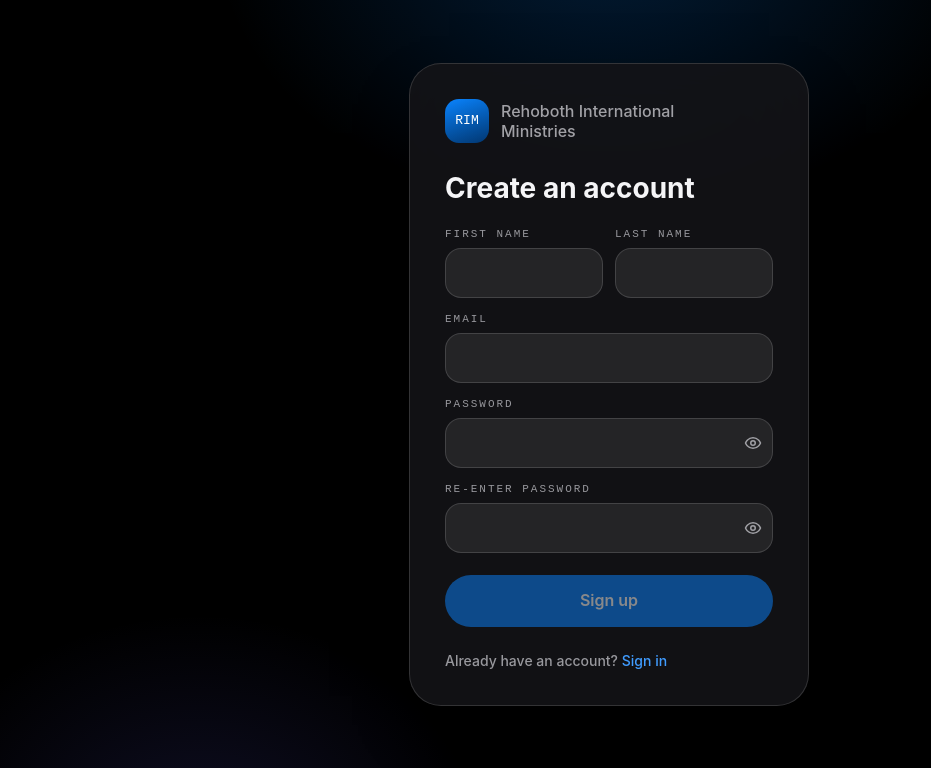
Scenario: signing up › shows no such dialog when sign-up failed
The image size is (931, 768).
Type "Ada" into the field labelled "First name".
click(524, 272); type("Ada")  # box [445,248,603,298]
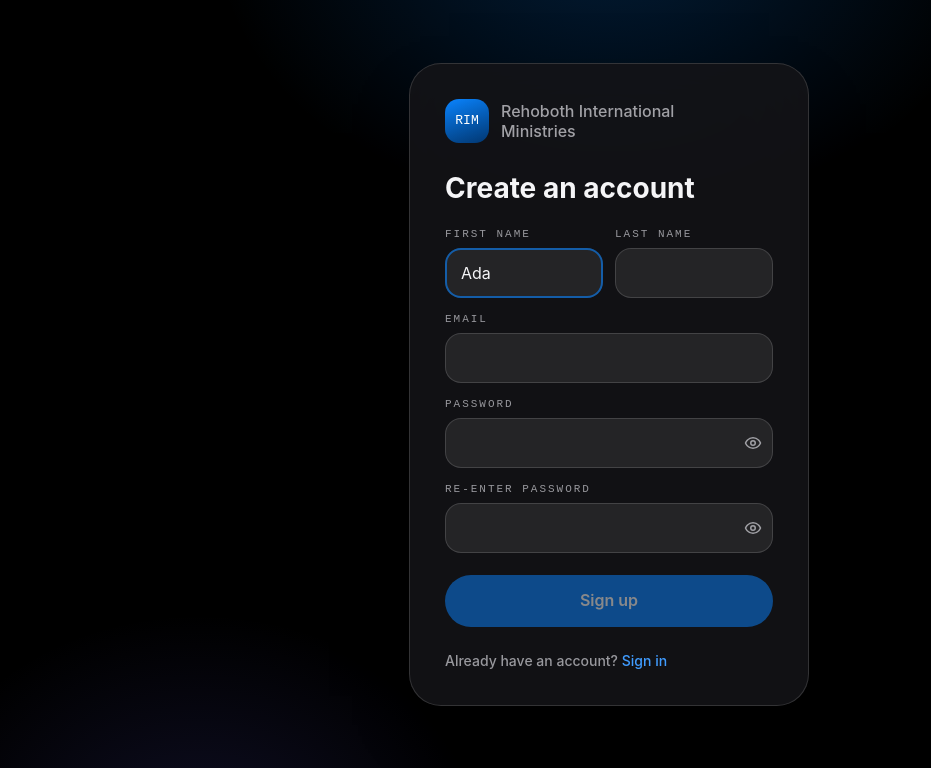
Type "Grace" into the field labelled "Last name".
click(694, 272); type("Grace")  # box [615,248,773,298]
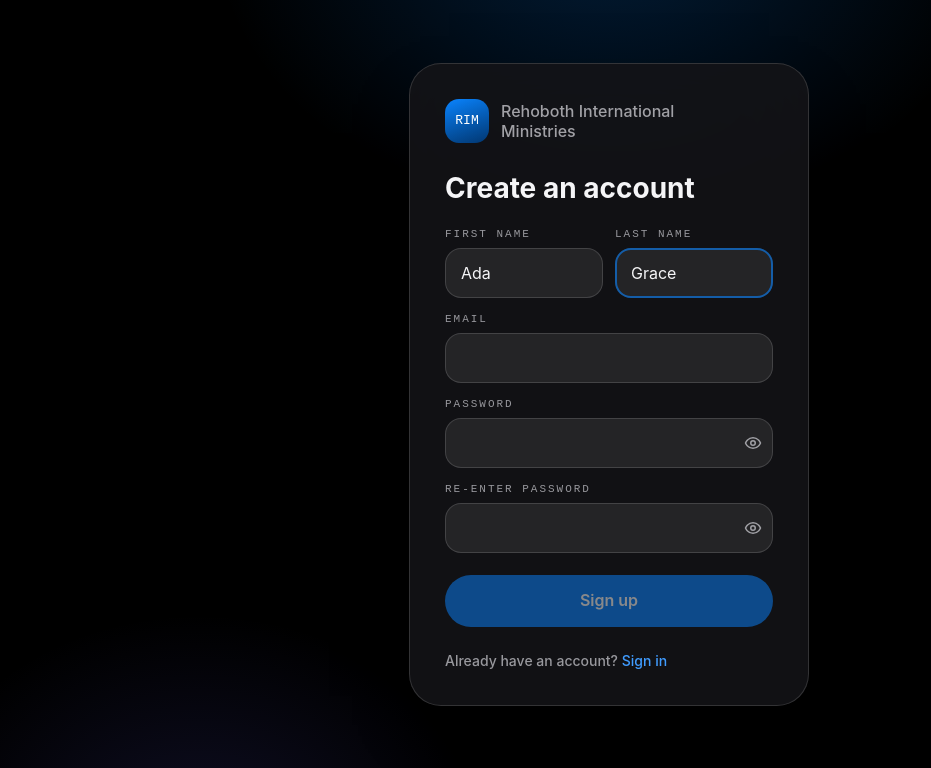
Type "  ada@gmail.com " into the field labelled "Email".
click(609, 358); type("  ada@gmail.com ")  # box [445,332,773,382]
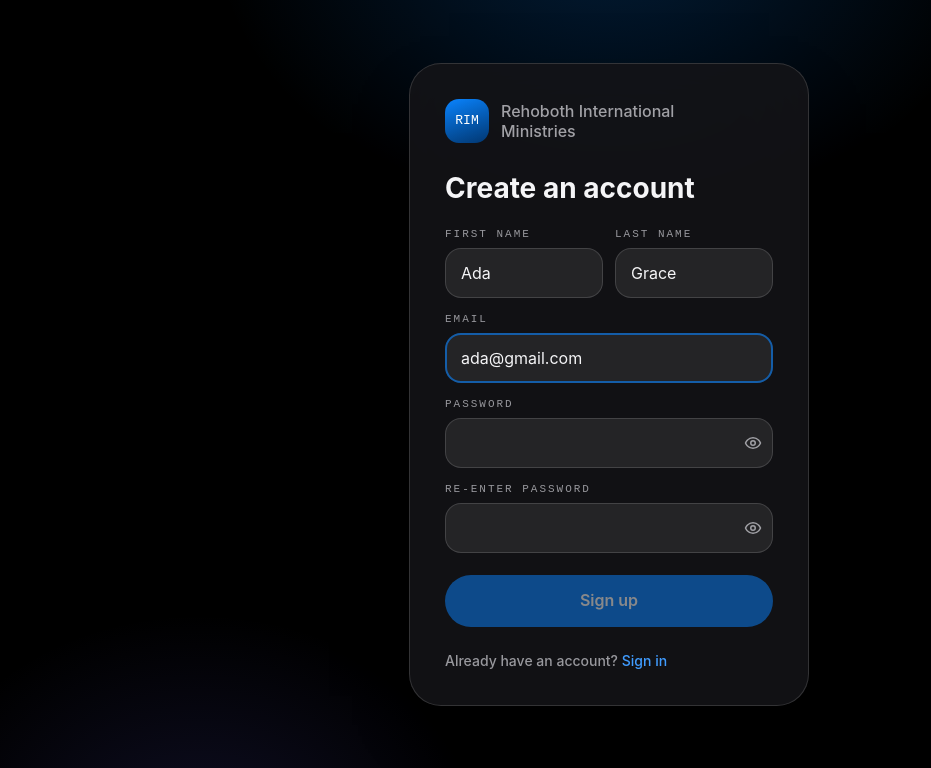
Type "Sunday-Rota-9" into the password field labelled "Password".
click(609, 442); type("Sunday-Rota-9")  # box [445,418,773,468]
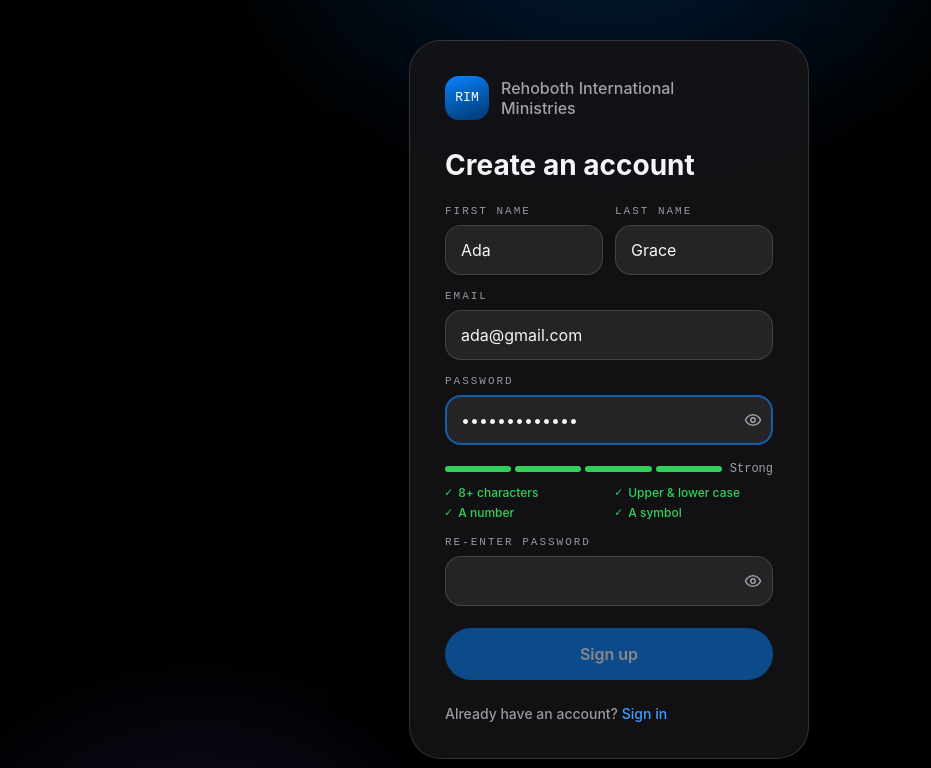
Type "Sunday-Rota-9" into the password field labelled "Re-enter password".
click(609, 581); type("Sunday-Rota-9")  # box [445,556,773,606]
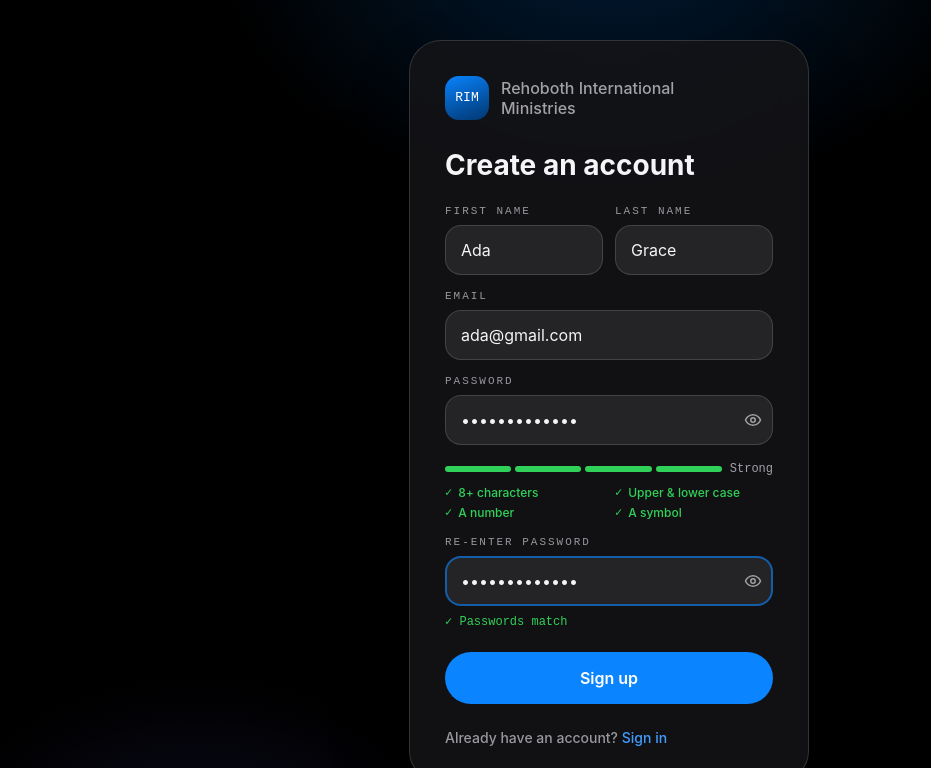
Click the button "Sign up".
click(609, 678)  # box [445,652,773,704]
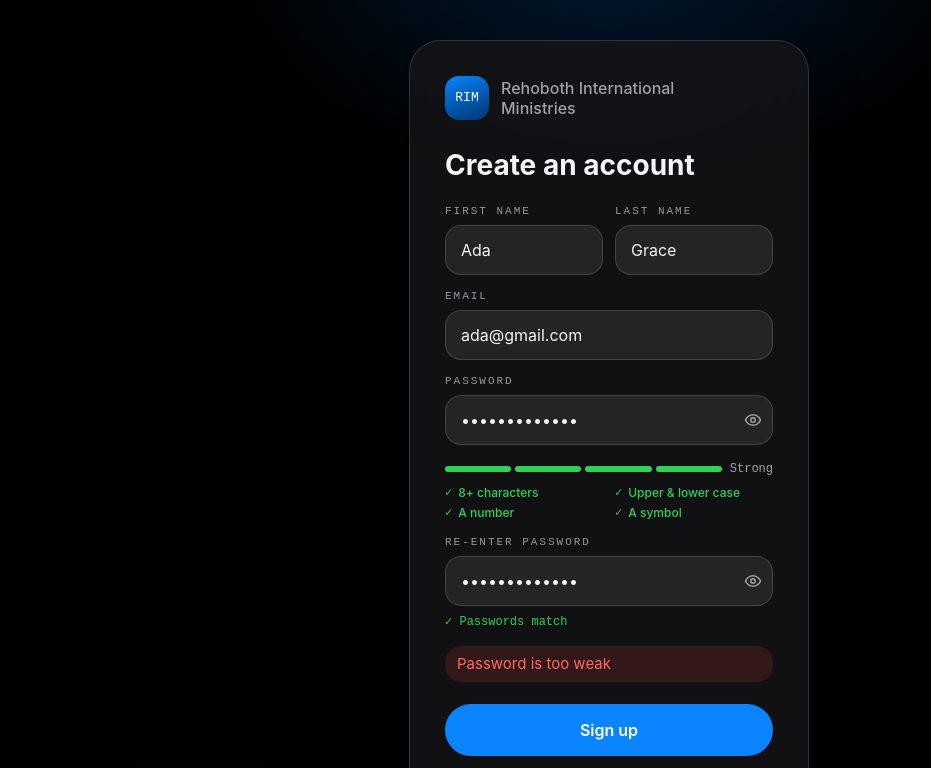
Check: the text "Password is too weak" is shown, box [445,646,773,682]
